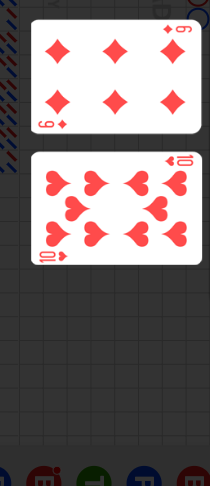10H: (38, 249, 70, 264), (163, 154, 195, 168)
